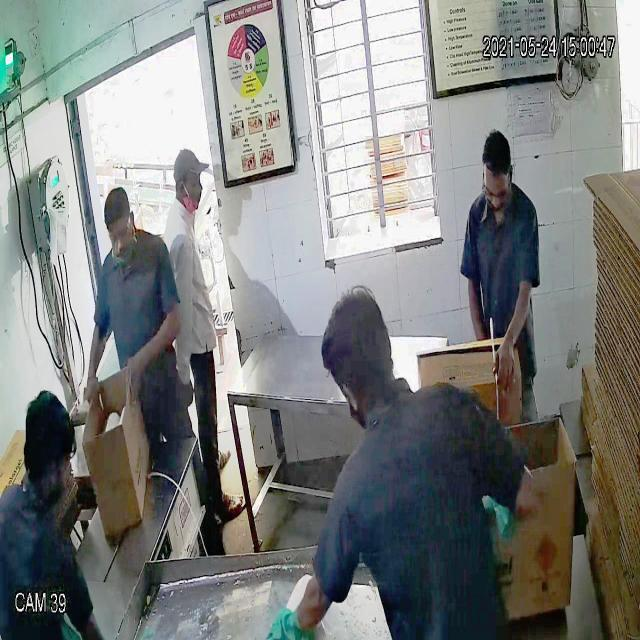glasses: (102, 220, 136, 248)
